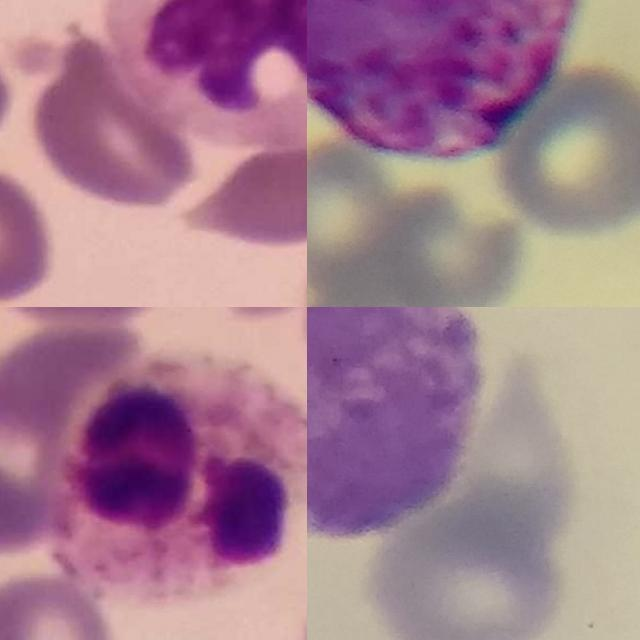Basophil: (307, 0, 583, 161), (307, 307, 482, 539)
Monocyte: (106, 0, 307, 157)
Neutrophil: (50, 357, 307, 608)
